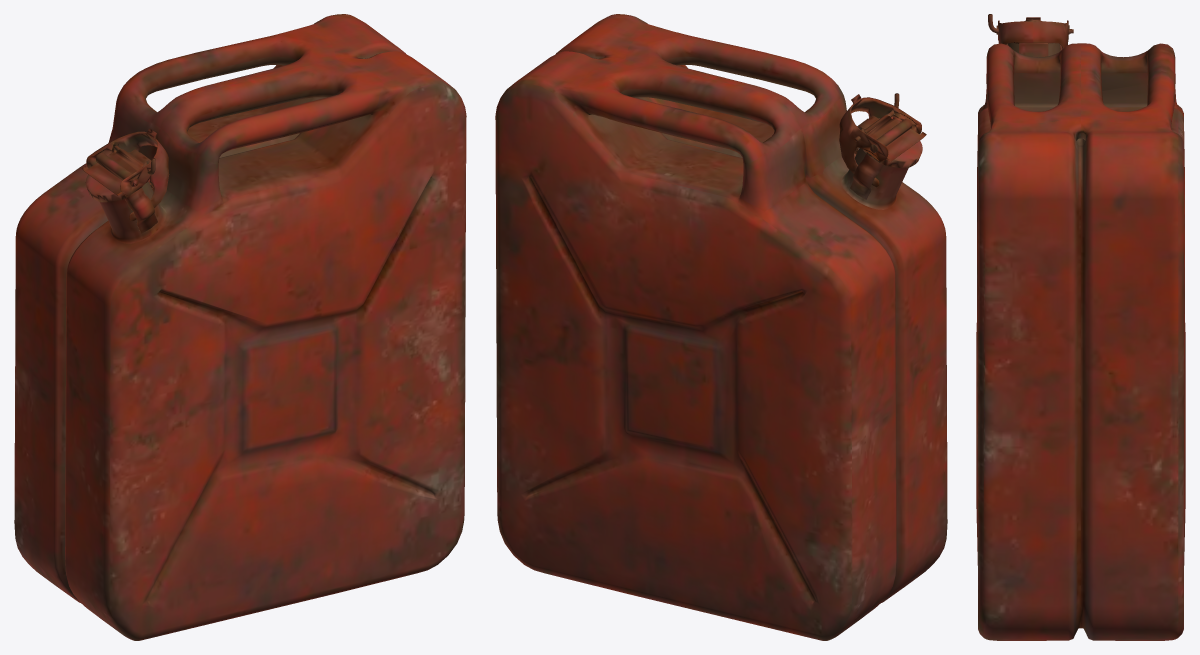
The model's file is metal_jerrycan.glb.
3 views of the same model, side by side, from view 1: azimuth 30°, elevation 25°; view 2: azimuth 150°, elevation 25°; view 3: azimuth 270°, elevation 25° (orthographic). The views are drawn at different scales.
Visible parts, largest first — view 1: metal_jerrycan; view 2: metal_jerrycan; view 3: metal_jerrycan.
Part boxes in pixels (left/top/right/bottom): metal_jerrycan: left=14, top=14, right=466, bottom=640; metal_jerrycan: left=495, top=14, right=947, bottom=640; metal_jerrycan: left=976, top=14, right=1185, bottom=640.
Bounding box in the file's own units: 0.3503 × 0.4552 × 0.1718.
Materials: 1 (1 with a texture image).
